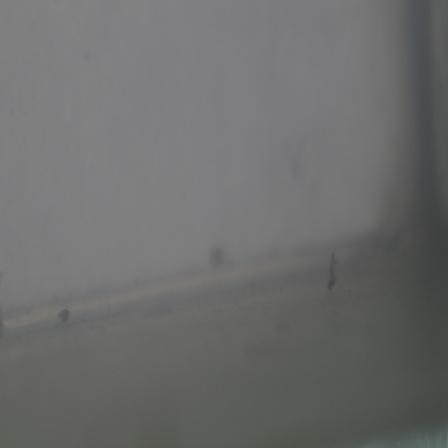Jentik-Nyamuk: (323, 250, 341, 293)
